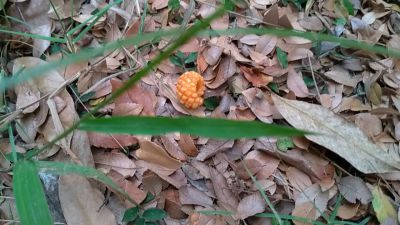eggs: (175, 68, 207, 112)
